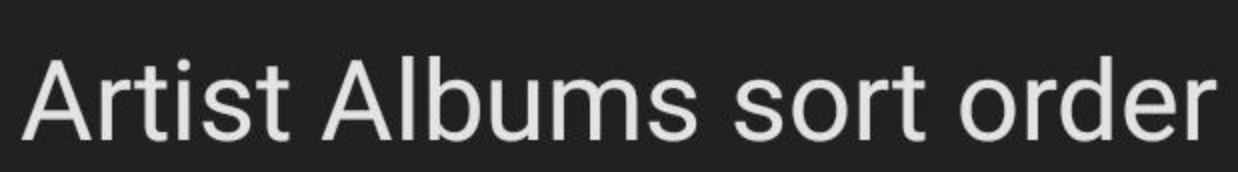TextView: (1, 1, 1237, 171)
